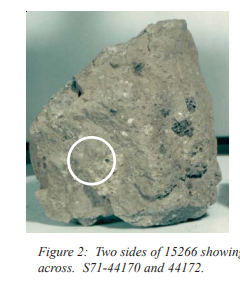Breccia: (26, 13, 223, 229)
